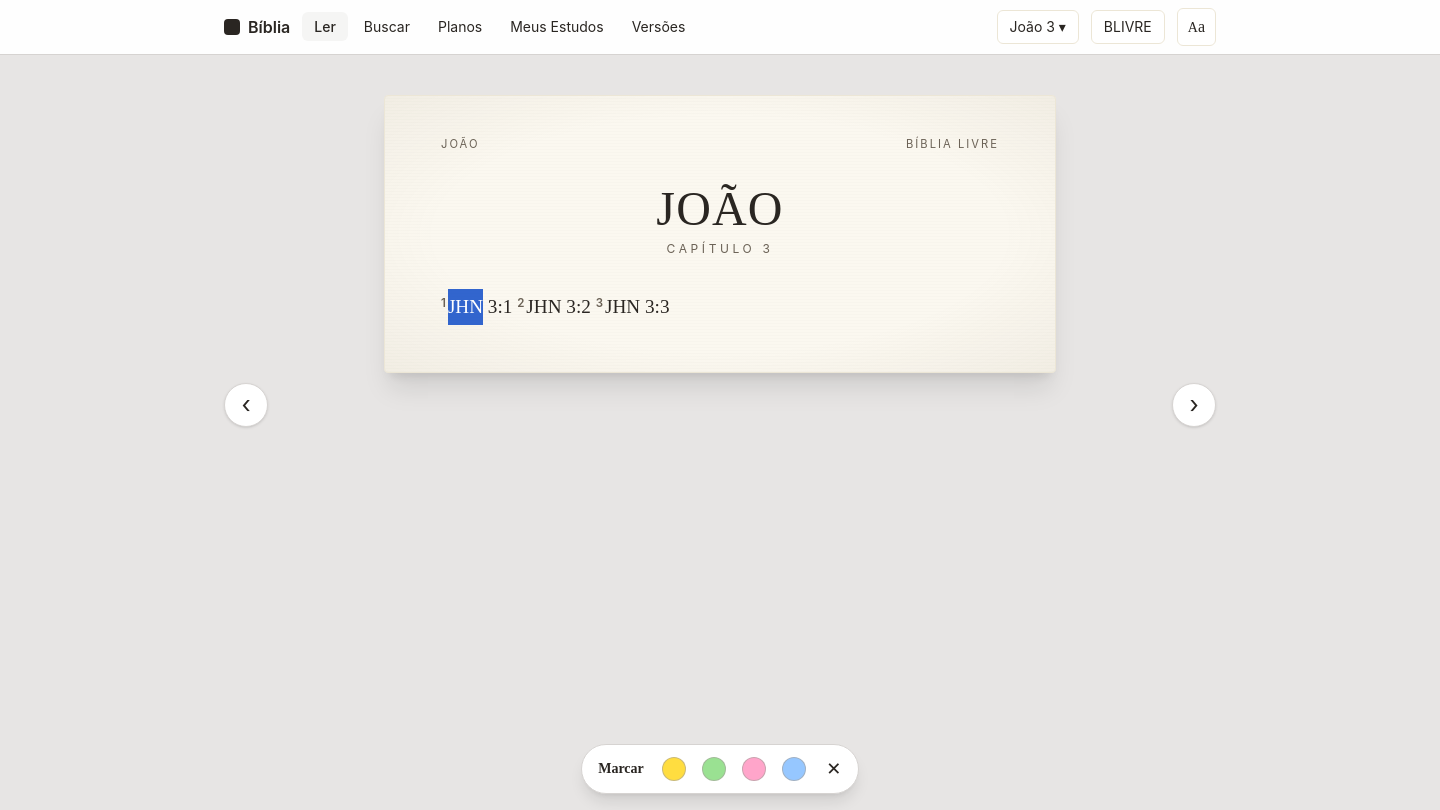
Marca-texto (UC05) › avisa quando a gravação falha
Click the button named "Marcar em amarelo". click: (674,769)
box: [656,751,692,787]
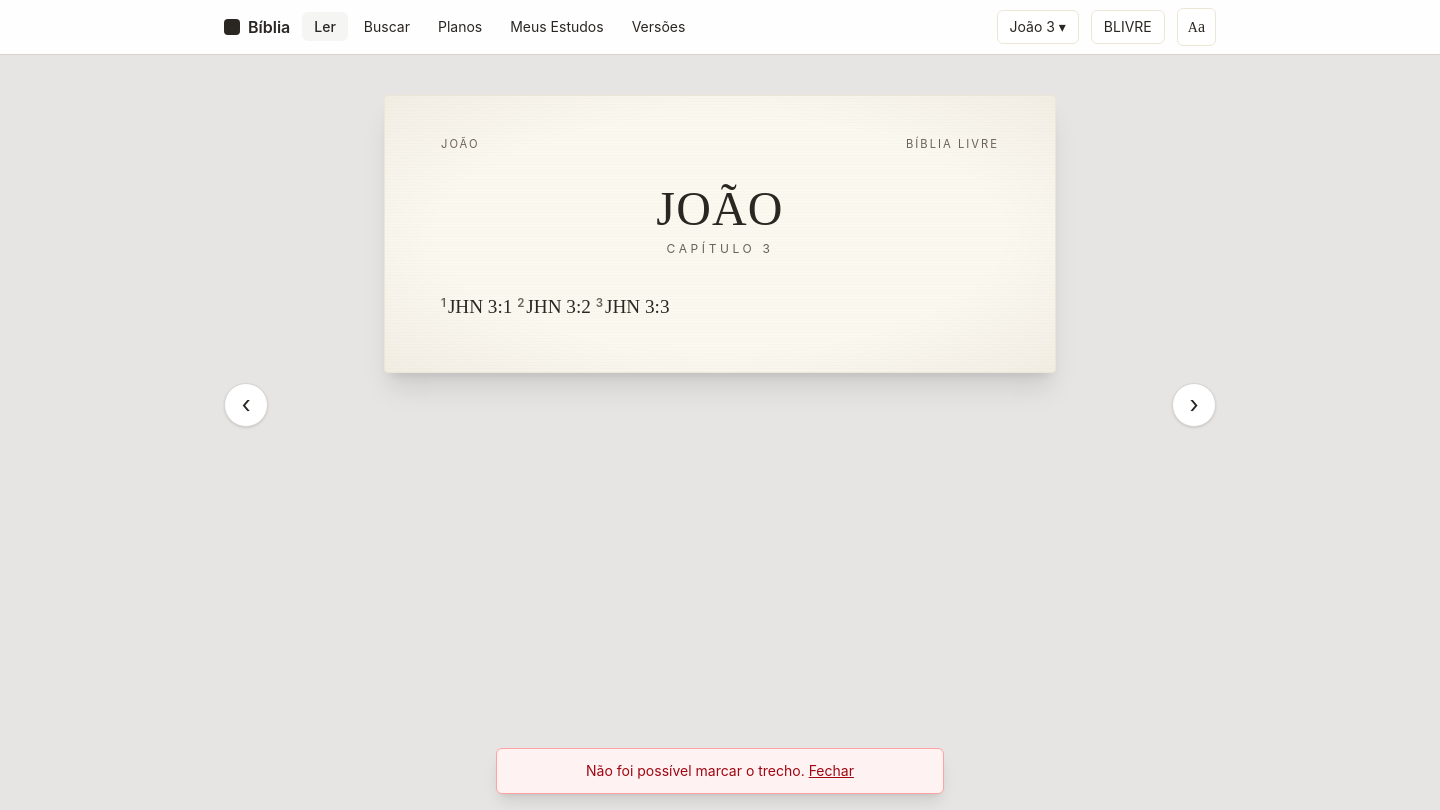
Now the message shows "Não foi possível marcar o trecho.", box [586,762,805,779]
